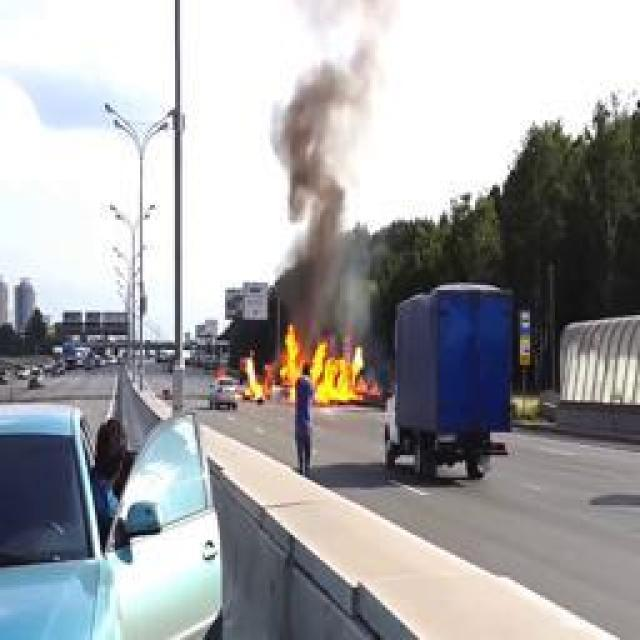Fire: (248, 325, 380, 405)
